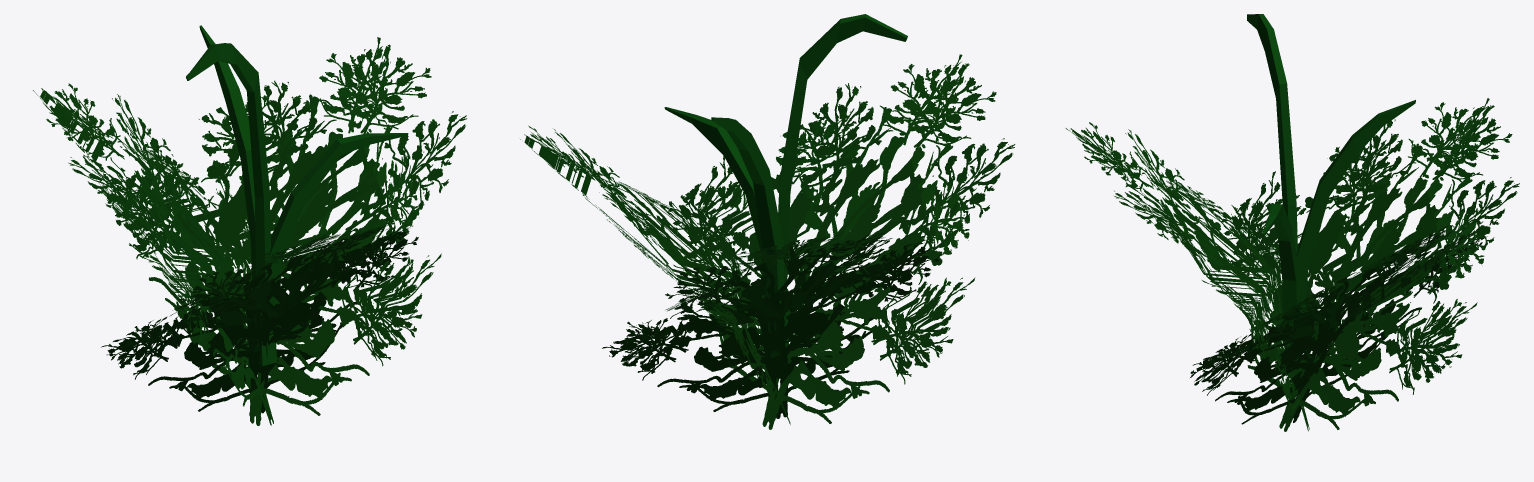
Rendered from ствол клубники.fbx.
3 views of the same model, side by side, from view 1: azimuth 30°, elevation 25°; view 2: azimuth 150°, elevation 25°; view 3: azimuth 270°, elevation 25° (orthographic). The views are drawn at different scales.
Visible parts, largest first — view 1: Plane.001, Cube.001; view 2: Plane.001, Cube.001; view 3: Plane.001, Cube.001.
Part boxes in pixels (x1,y1,x2,y2): Plane.001: [33, 37, 466, 425]; Cube.001: [186, 25, 408, 366]; Plane.001: [520, 54, 1015, 429]; Cube.001: [664, 14, 907, 358]; Plane.001: [1065, 98, 1519, 431]; Cube.001: [1247, 14, 1415, 375].
Size of the model in its own units: 657 by 706 by 728.
